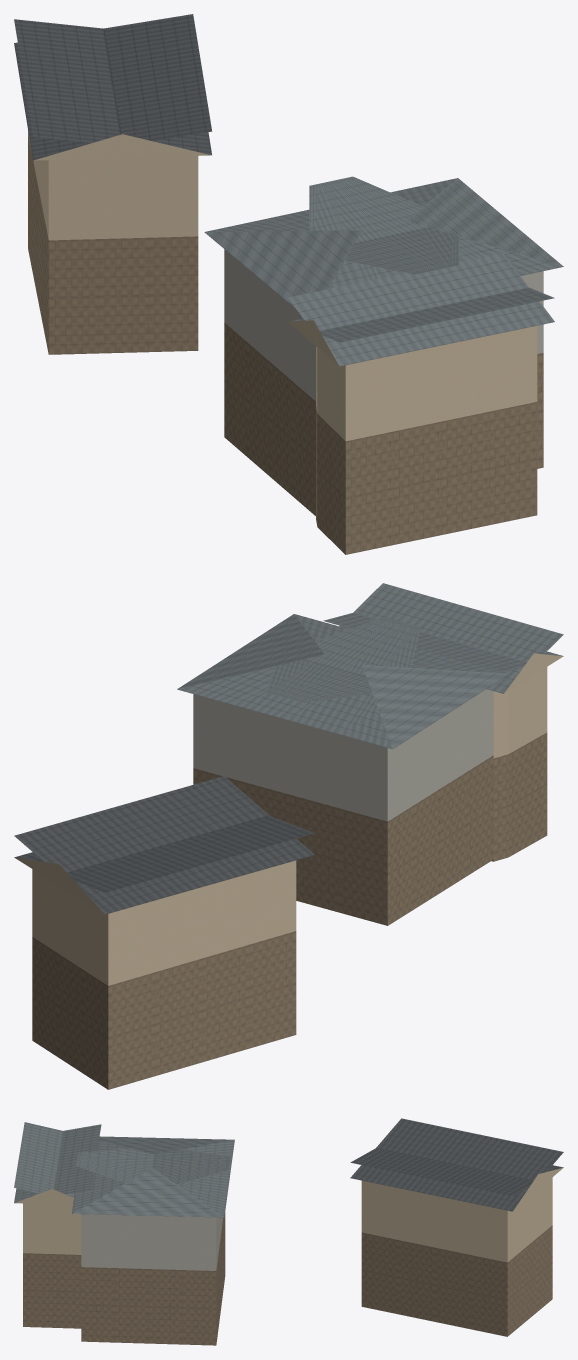
Rendered from bld_c10_27_397.gltf.
The picture shows the model from 3 angles, top to bottom: view 1: azimuth 30°, elevation 25°; view 2: azimuth 150°, elevation 25°; view 3: azimuth 270°, elevation 25°; orthographic projection. The views are drawn at different scales.
Visible parts, largest first — view 1: bld_c10_27_397; view 2: bld_c10_27_397; view 3: bld_c10_27_397.
Part boxes in pixels (x1,y1,x2,y2): bld_c10_27_397: [14, 14, 563, 554]; bld_c10_27_397: [14, 583, 563, 1089]; bld_c10_27_397: [14, 1118, 563, 1345].
Bounding box in the file's own units: 12.65 × 9.9 × 32.15.
6 materials, 6 textured.
